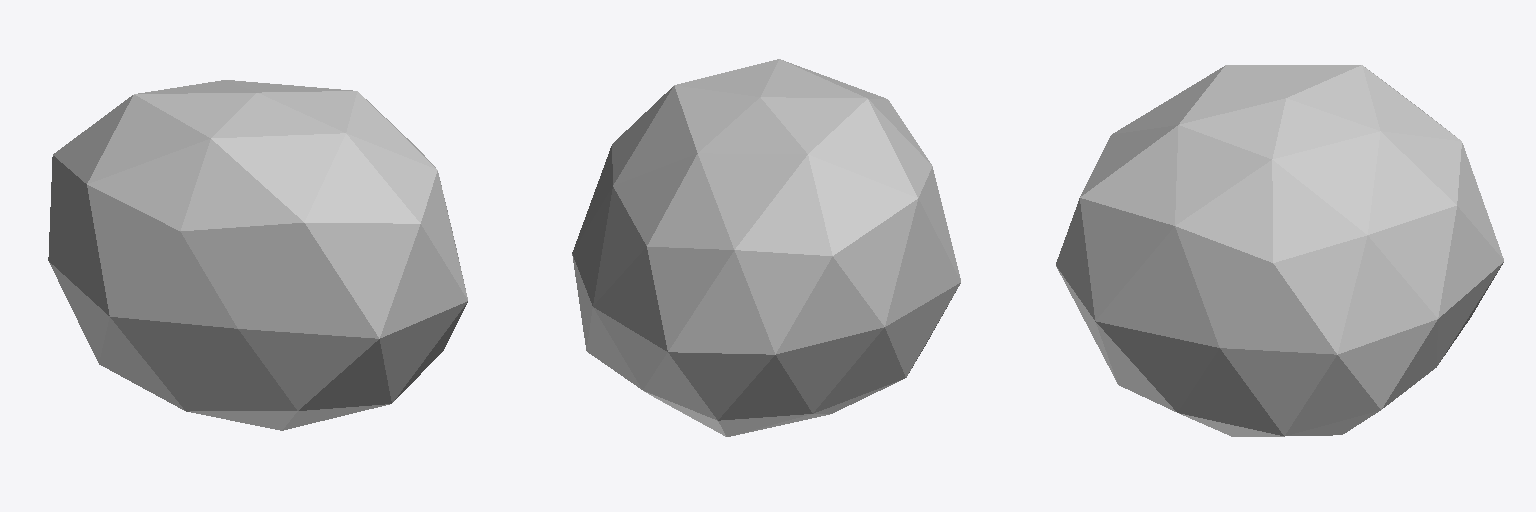
Rendered from Bush_1.obj.
The picture shows the model from 3 angles: view 1: azimuth 30°, elevation 25°; view 2: azimuth 150°, elevation 25°; view 3: azimuth 270°, elevation 25°; orthographic projection.
Visible parts, largest first — view 1: Icosphere.038_Icosphere.133; view 2: Icosphere.038_Icosphere.133; view 3: Icosphere.038_Icosphere.133.
Part boxes in pixels (x1,y1,x2,y2): Icosphere.038_Icosphere.133: (48, 80, 467, 430); Icosphere.038_Icosphere.133: (572, 59, 960, 436); Icosphere.038_Icosphere.133: (1056, 65, 1503, 436).
Bounding box in the file's own units: 1.16 × 1.05 × 1.33.